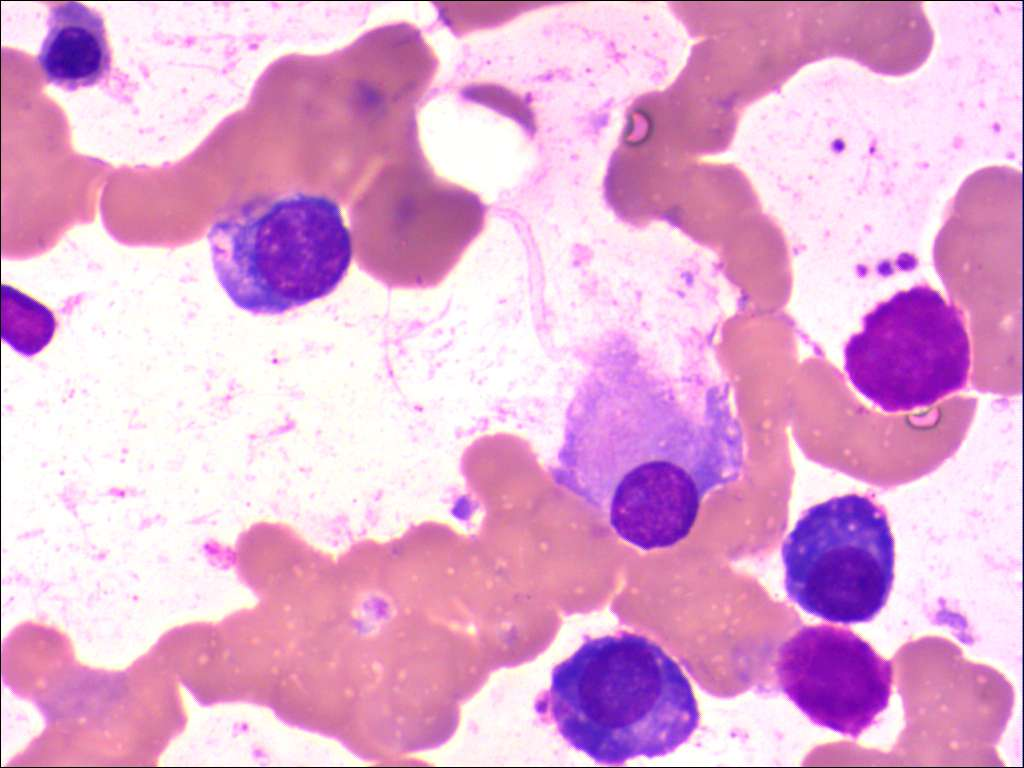24: (34, 1, 116, 94)
51: (527, 626, 703, 768), (203, 189, 354, 321), (778, 489, 898, 628)
52: (548, 327, 751, 556)
x: (841, 280, 975, 415), (773, 622, 897, 744), (1, 282, 61, 361)
